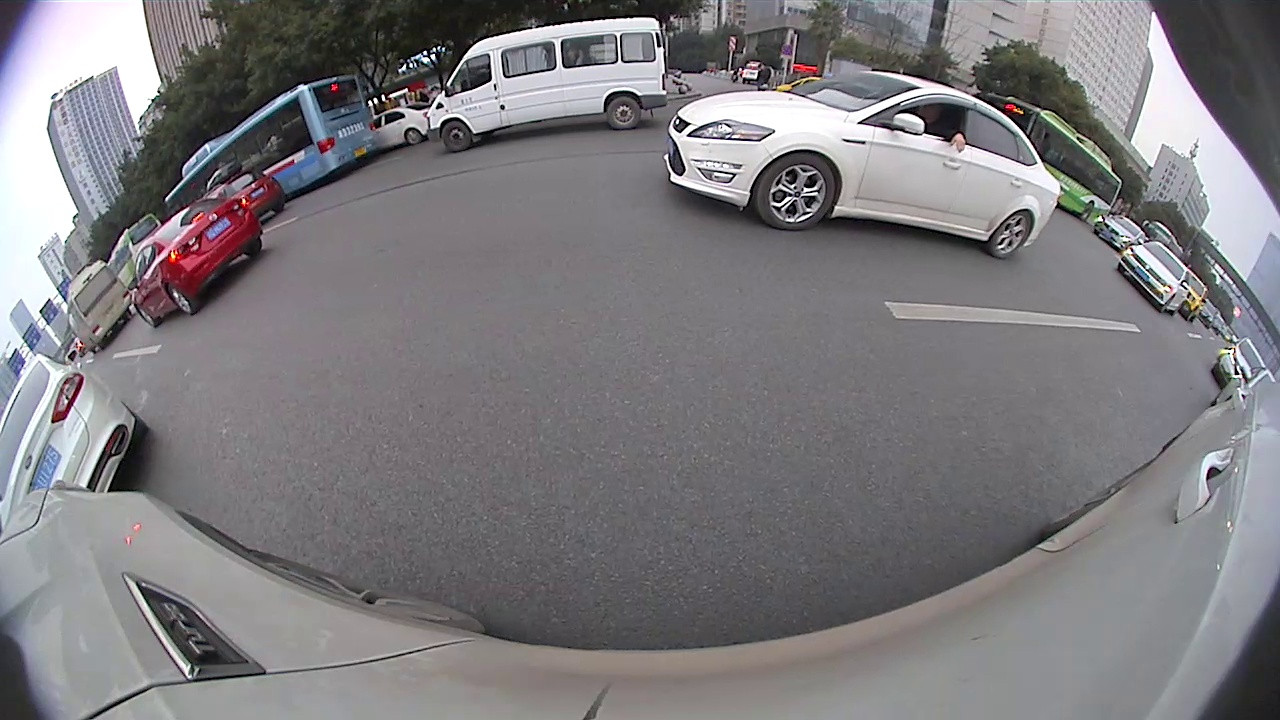bus: (164, 72, 378, 206), (986, 101, 1119, 224), (63, 261, 128, 349)
car: (663, 69, 1058, 260), (428, 17, 670, 149), (2, 353, 146, 523), (131, 201, 265, 326), (1118, 241, 1199, 316), (212, 174, 286, 220), (366, 106, 440, 146)
front: (756, 150, 839, 232), (440, 121, 474, 154)
rear: (989, 206, 1035, 261), (606, 96, 641, 131), (165, 281, 196, 316), (404, 127, 421, 146), (1080, 201, 1094, 223)
